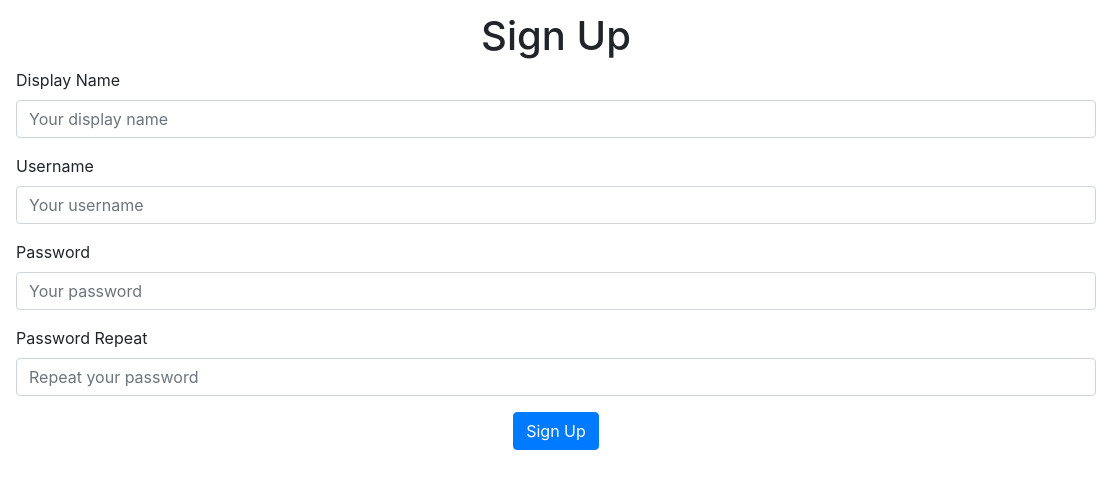
Test: UserSignupPage › interactions › disables the signup button when password and repeat password are not same value
This screenshot has width=1113, height=490.
Type "my-display-name" into the field with placeholder "Your display name" at (556, 119), box [16, 100, 1096, 138]
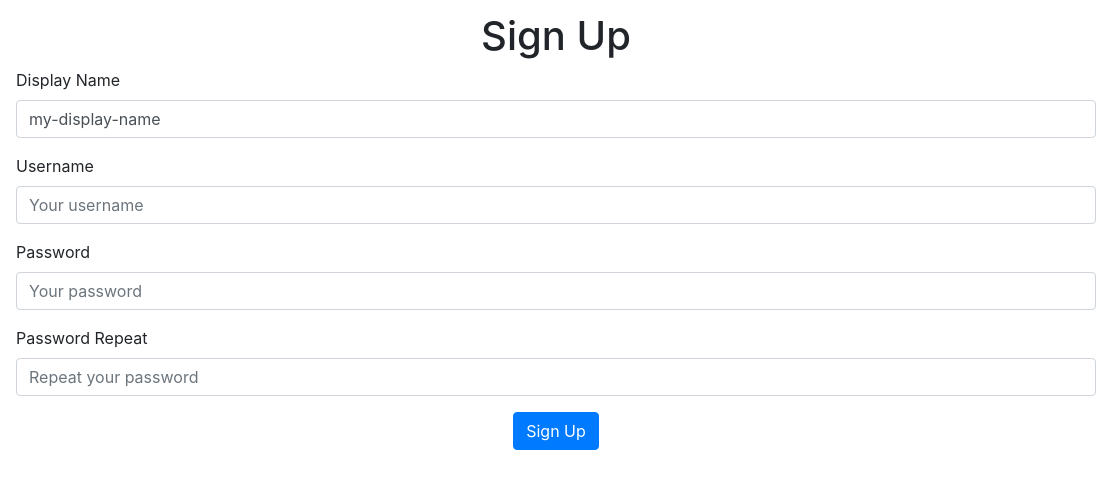
Type "my-user-name" into the field with placeholder "Your username" at (556, 205), box [16, 186, 1096, 224]
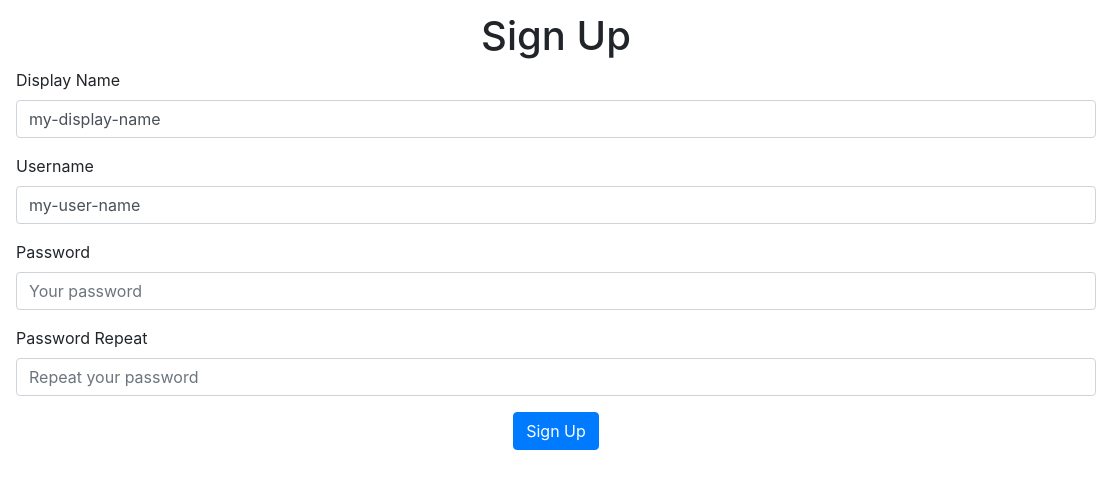
Type "P4ssword" into the password field with placeholder "Your password" at (556, 291), box [16, 272, 1096, 310]
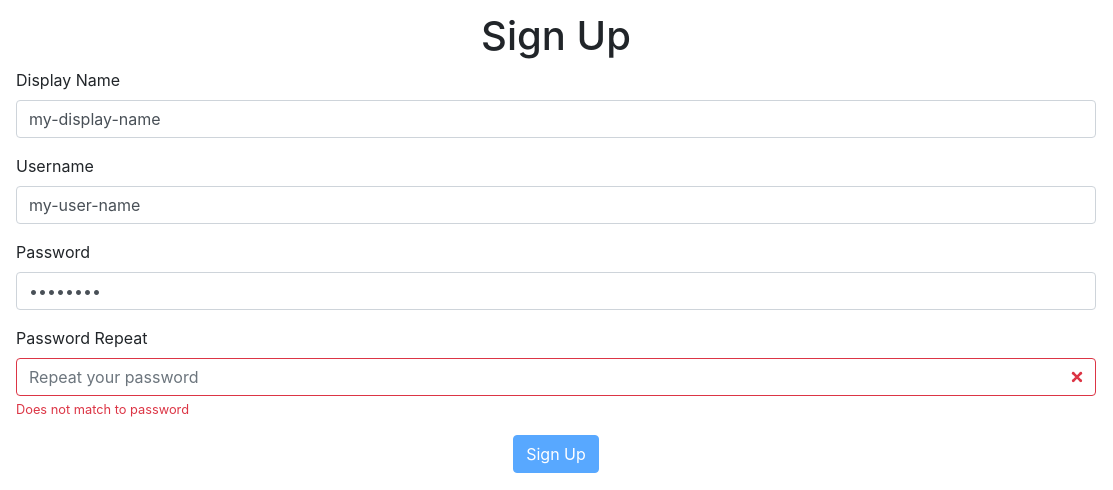
Type "P4ssword" into the password field with placeholder "Repeat your password" at (556, 377), box [16, 358, 1096, 396]
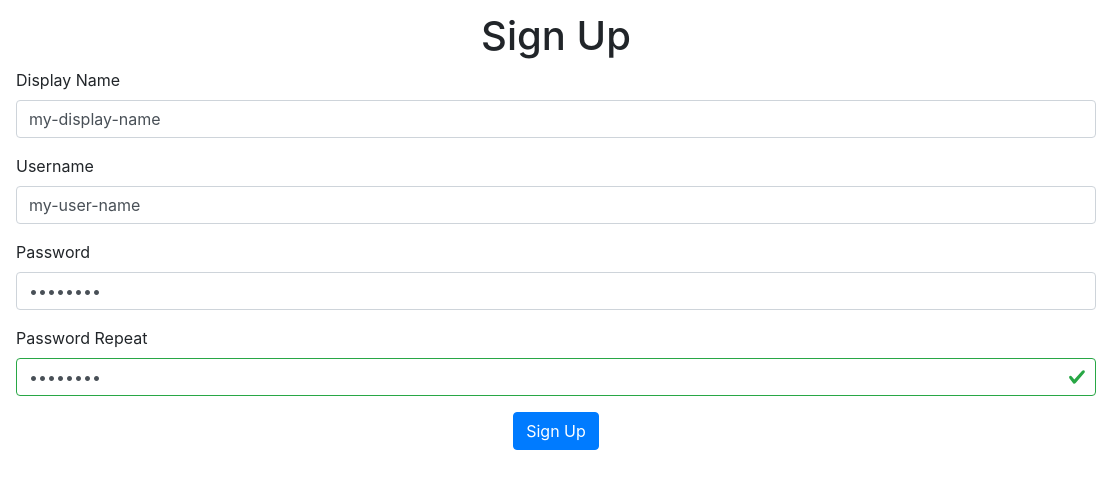
Type "new-pass" into the password field with placeholder "Repeat your password" below "Password Repeat" at (556, 377), box [16, 358, 1096, 396]
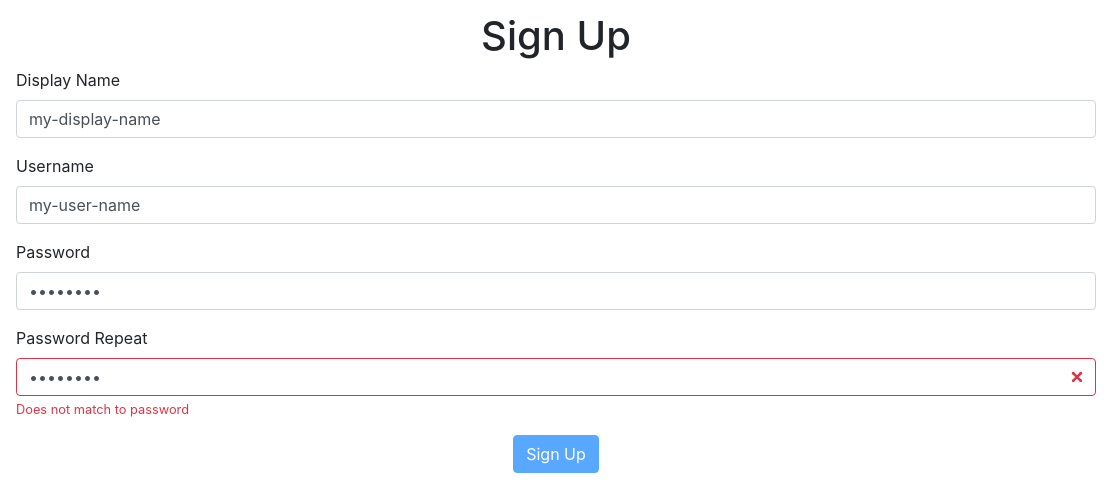
Expected: the button "Sign Up" is disabled, [513, 435, 599, 473]
